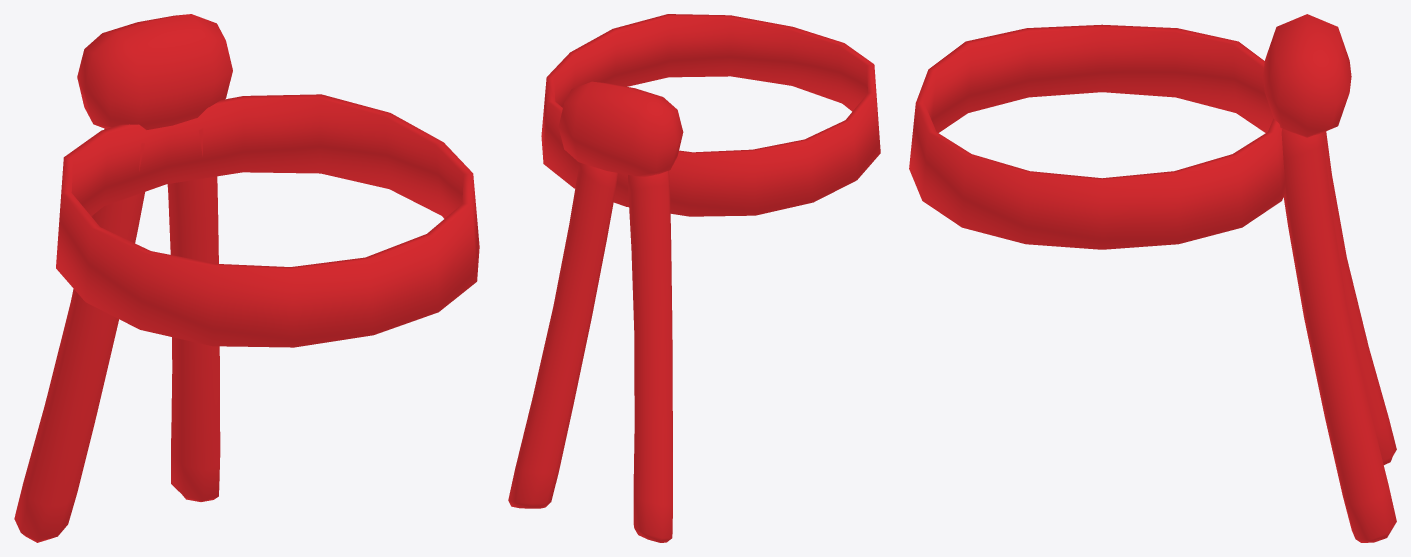
File: accessory-bandana.glb
3 renders of one model, left to right at view 1: azimuth 30°, elevation 25°; view 2: azimuth 150°, elevation 25°; view 3: azimuth 270°, elevation 25°, orthographic. The views are drawn at different scales.
Visible parts, largest first — view 1: accessory__headmesh_001__1, accessory__Cube_001__0; view 2: accessory__Cube_001__0, accessory__headmesh_001__1; view 3: accessory__headmesh_001__1, accessory__Cube_001__0.
Boxes of the visible parts, x1,y1,x2,y2 form: accessory__headmesh_001__1: [56, 94, 479, 347]; accessory__Cube_001__0: [14, 14, 232, 542]; accessory__Cube_001__0: [508, 81, 683, 542]; accessory__headmesh_001__1: [541, 14, 880, 216]; accessory__headmesh_001__1: [909, 24, 1285, 249]; accessory__Cube_001__0: [1263, 14, 1396, 542].
Bounding box in the file's own units: 0.6025 × 0.8248 × 0.7667.
